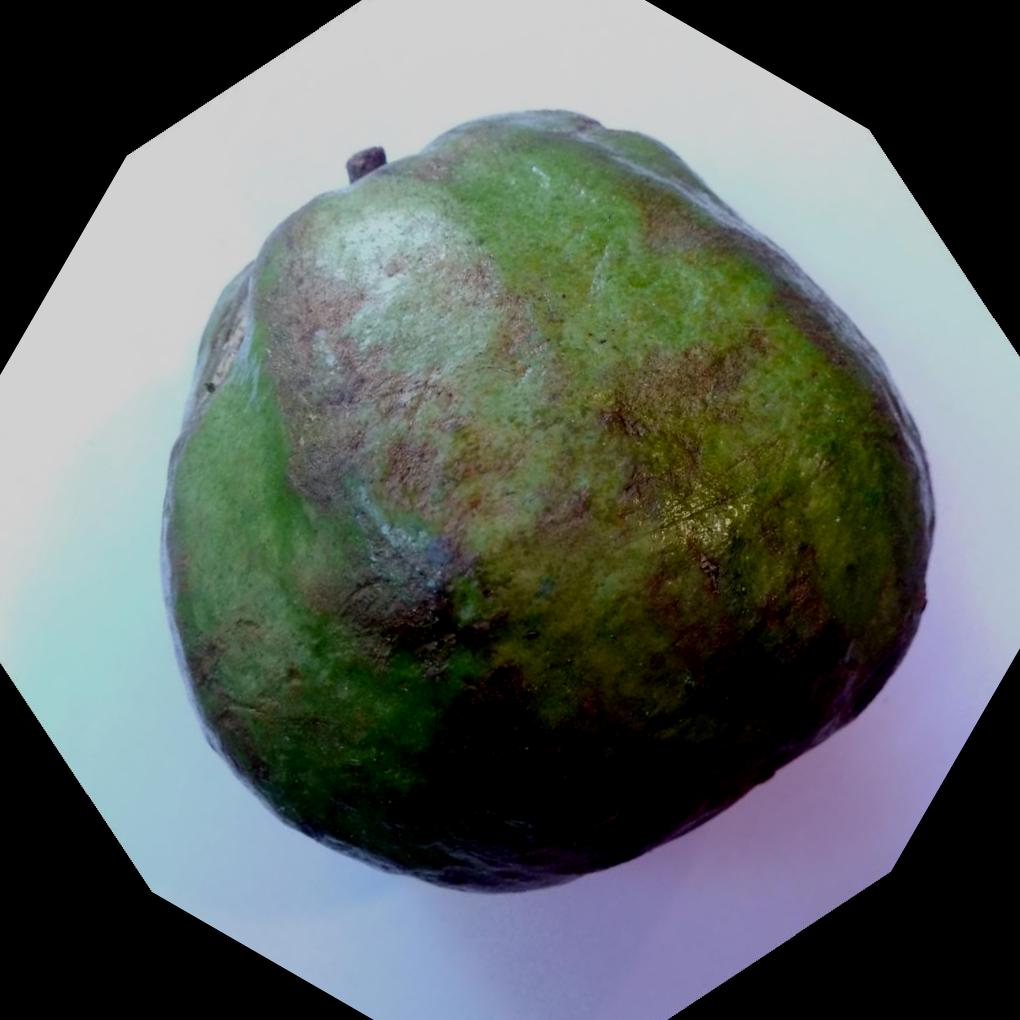FreshOrange: (161, 107, 938, 897)
